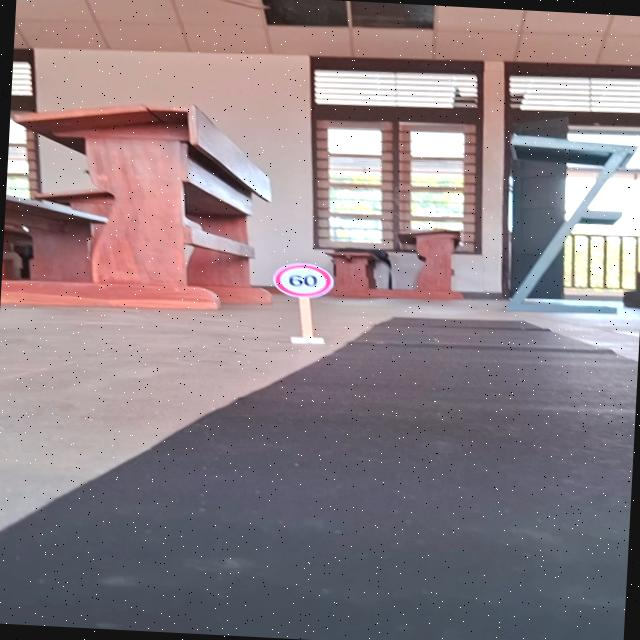Speed60: (270, 261, 336, 300)
